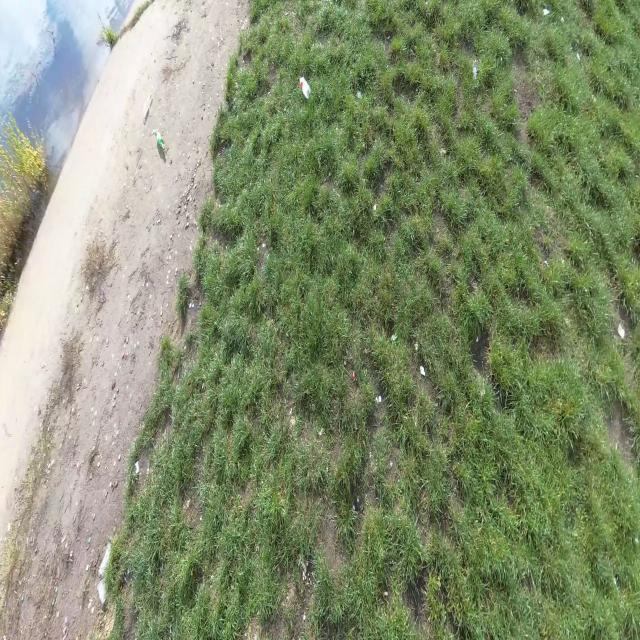rubbish: (98, 541, 117, 581), (96, 576, 110, 606), (298, 75, 312, 102), (154, 126, 165, 158)
